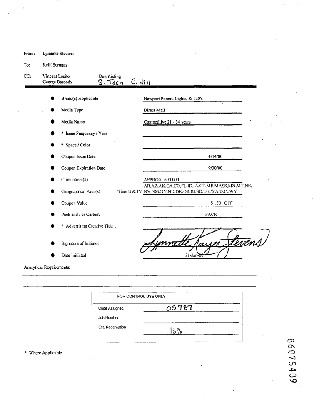textline: (142, 188, 243, 196), (142, 240, 243, 248), (143, 316, 239, 324), (143, 328, 239, 336), (142, 96, 243, 103), (142, 107, 243, 114), (142, 119, 243, 126), (142, 131, 243, 138), (142, 142, 243, 149), (142, 154, 243, 161), (142, 165, 243, 172), (142, 176, 243, 183), (142, 200, 243, 207), (142, 211, 243, 218), (142, 223, 243, 230), (142, 253, 243, 260), (143, 305, 239, 312)
